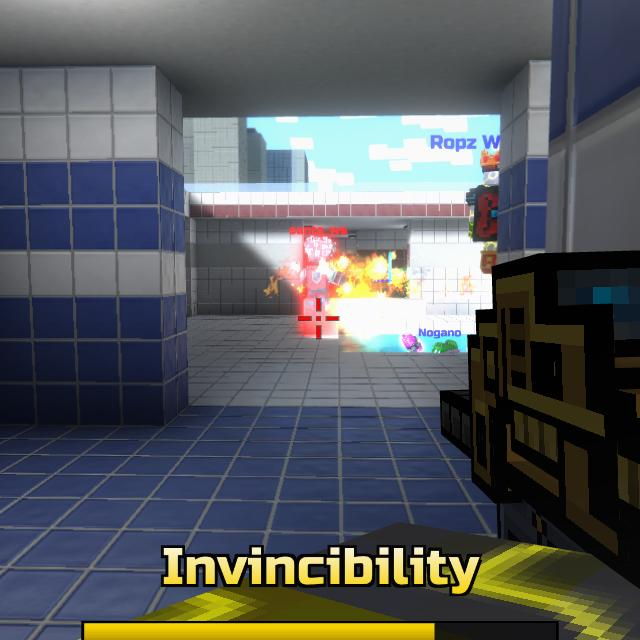Enemy: (296, 239, 348, 337)
